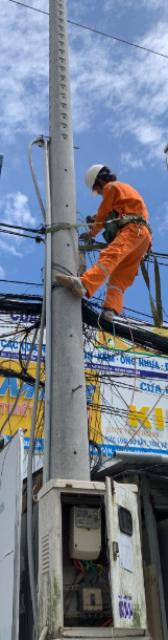gloves: (79, 229, 100, 242)
harness: (117, 214, 156, 232)
helmet: (83, 162, 109, 187)
shoes: (54, 267, 90, 304), (102, 303, 117, 322)
